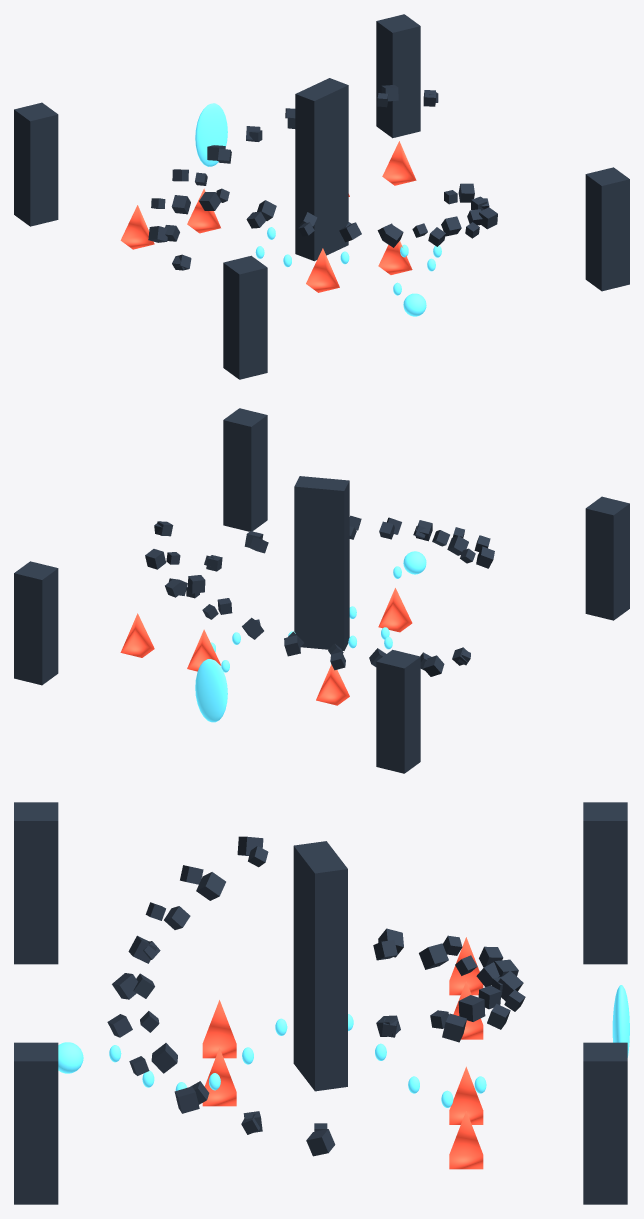
File: grove_scene.gltf
3 views of the same model, one above another, from view 1: azimuth 30°, elevation 25°; view 2: azimuth 150°, elevation 25°; view 3: azimuth 270°, elevation 25° (orthographic). The views are drawn at different scales.
Parts seen in each view (by area): view 1: signature_monolith, tower_0, tower_2, tower_3, tower_1, goal_portal, hazard_3, hazard_4, hazard_0, hazard_5, hazard_1; view 2: signature_monolith, tower_0, tower_1, tower_2, tower_3, goal_portal, hazard_3, hazard_4, hazard_1, hazard_2; view 3: signature_monolith, tower_0, tower_1, tower_2, tower_3, hazard_3, hazard_4, hazard_2, hazard_5, hazard_0, goal_portal, player (+4 smaller).
Part boxes in pixels (<box>): signature_monolith: <box>295,78,348,261</box>; tower_0: <box>14,102,58,226</box>; tower_2: <box>223,255,267,379</box>; tower_3: <box>585,167,629,291</box>; tower_1: <box>376,14,420,138</box>; goal_portal: <box>195,103,227,166</box>; hazard_3: <box>382,141,416,185</box>; hazard_4: <box>306,248,339,292</box>; hazard_0: <box>120,205,154,249</box>; hazard_5: <box>378,241,412,274</box>; hazard_1: <box>187,188,220,233</box>; signature_monolith: <box>294,476,349,650</box>; tower_0: <box>376,649,420,773</box>; tower_1: <box>14,561,58,685</box>; tower_2: <box>585,496,629,620</box>; tower_3: <box>223,408,267,531</box>; goal_portal: <box>195,659,227,722</box>; hazard_3: <box>120,613,154,657</box>; hazard_4: <box>378,588,412,632</box>; hazard_1: <box>316,664,349,705</box>; hazard_2: <box>187,629,220,671</box>; signature_monolith: <box>293,841,347,1091</box>; tower_0: <box>583,802,627,964</box>; tower_1: <box>583,1042,627,1204</box>; tower_2: <box>14,802,58,964</box>; tower_3: <box>14,1042,58,1204</box>; hazard_3: <box>449,1111,483,1169</box>; hazard_4: <box>202,1000,236,1058</box>; hazard_2: <box>449,1066,483,1124</box>; hazard_5: <box>202,1048,236,1106</box>; hazard_0: <box>449,937,483,995</box>; goal_portal: <box>612,985,629,1057</box>; player: <box>58,1042,83,1073</box>.
Size of what is drawn, in the model's own units: 19.4 by 7.6 by 19.48.
